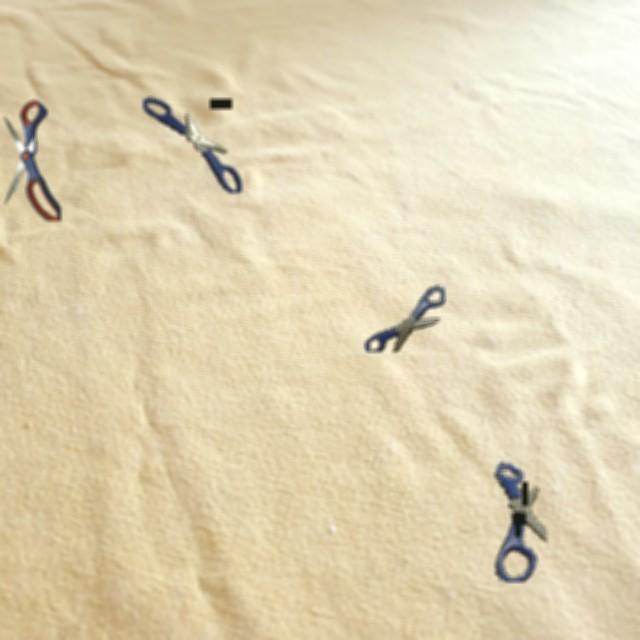scissors: (143, 97, 242, 193), (4, 100, 61, 221), (494, 462, 547, 582), (365, 285, 445, 352)
